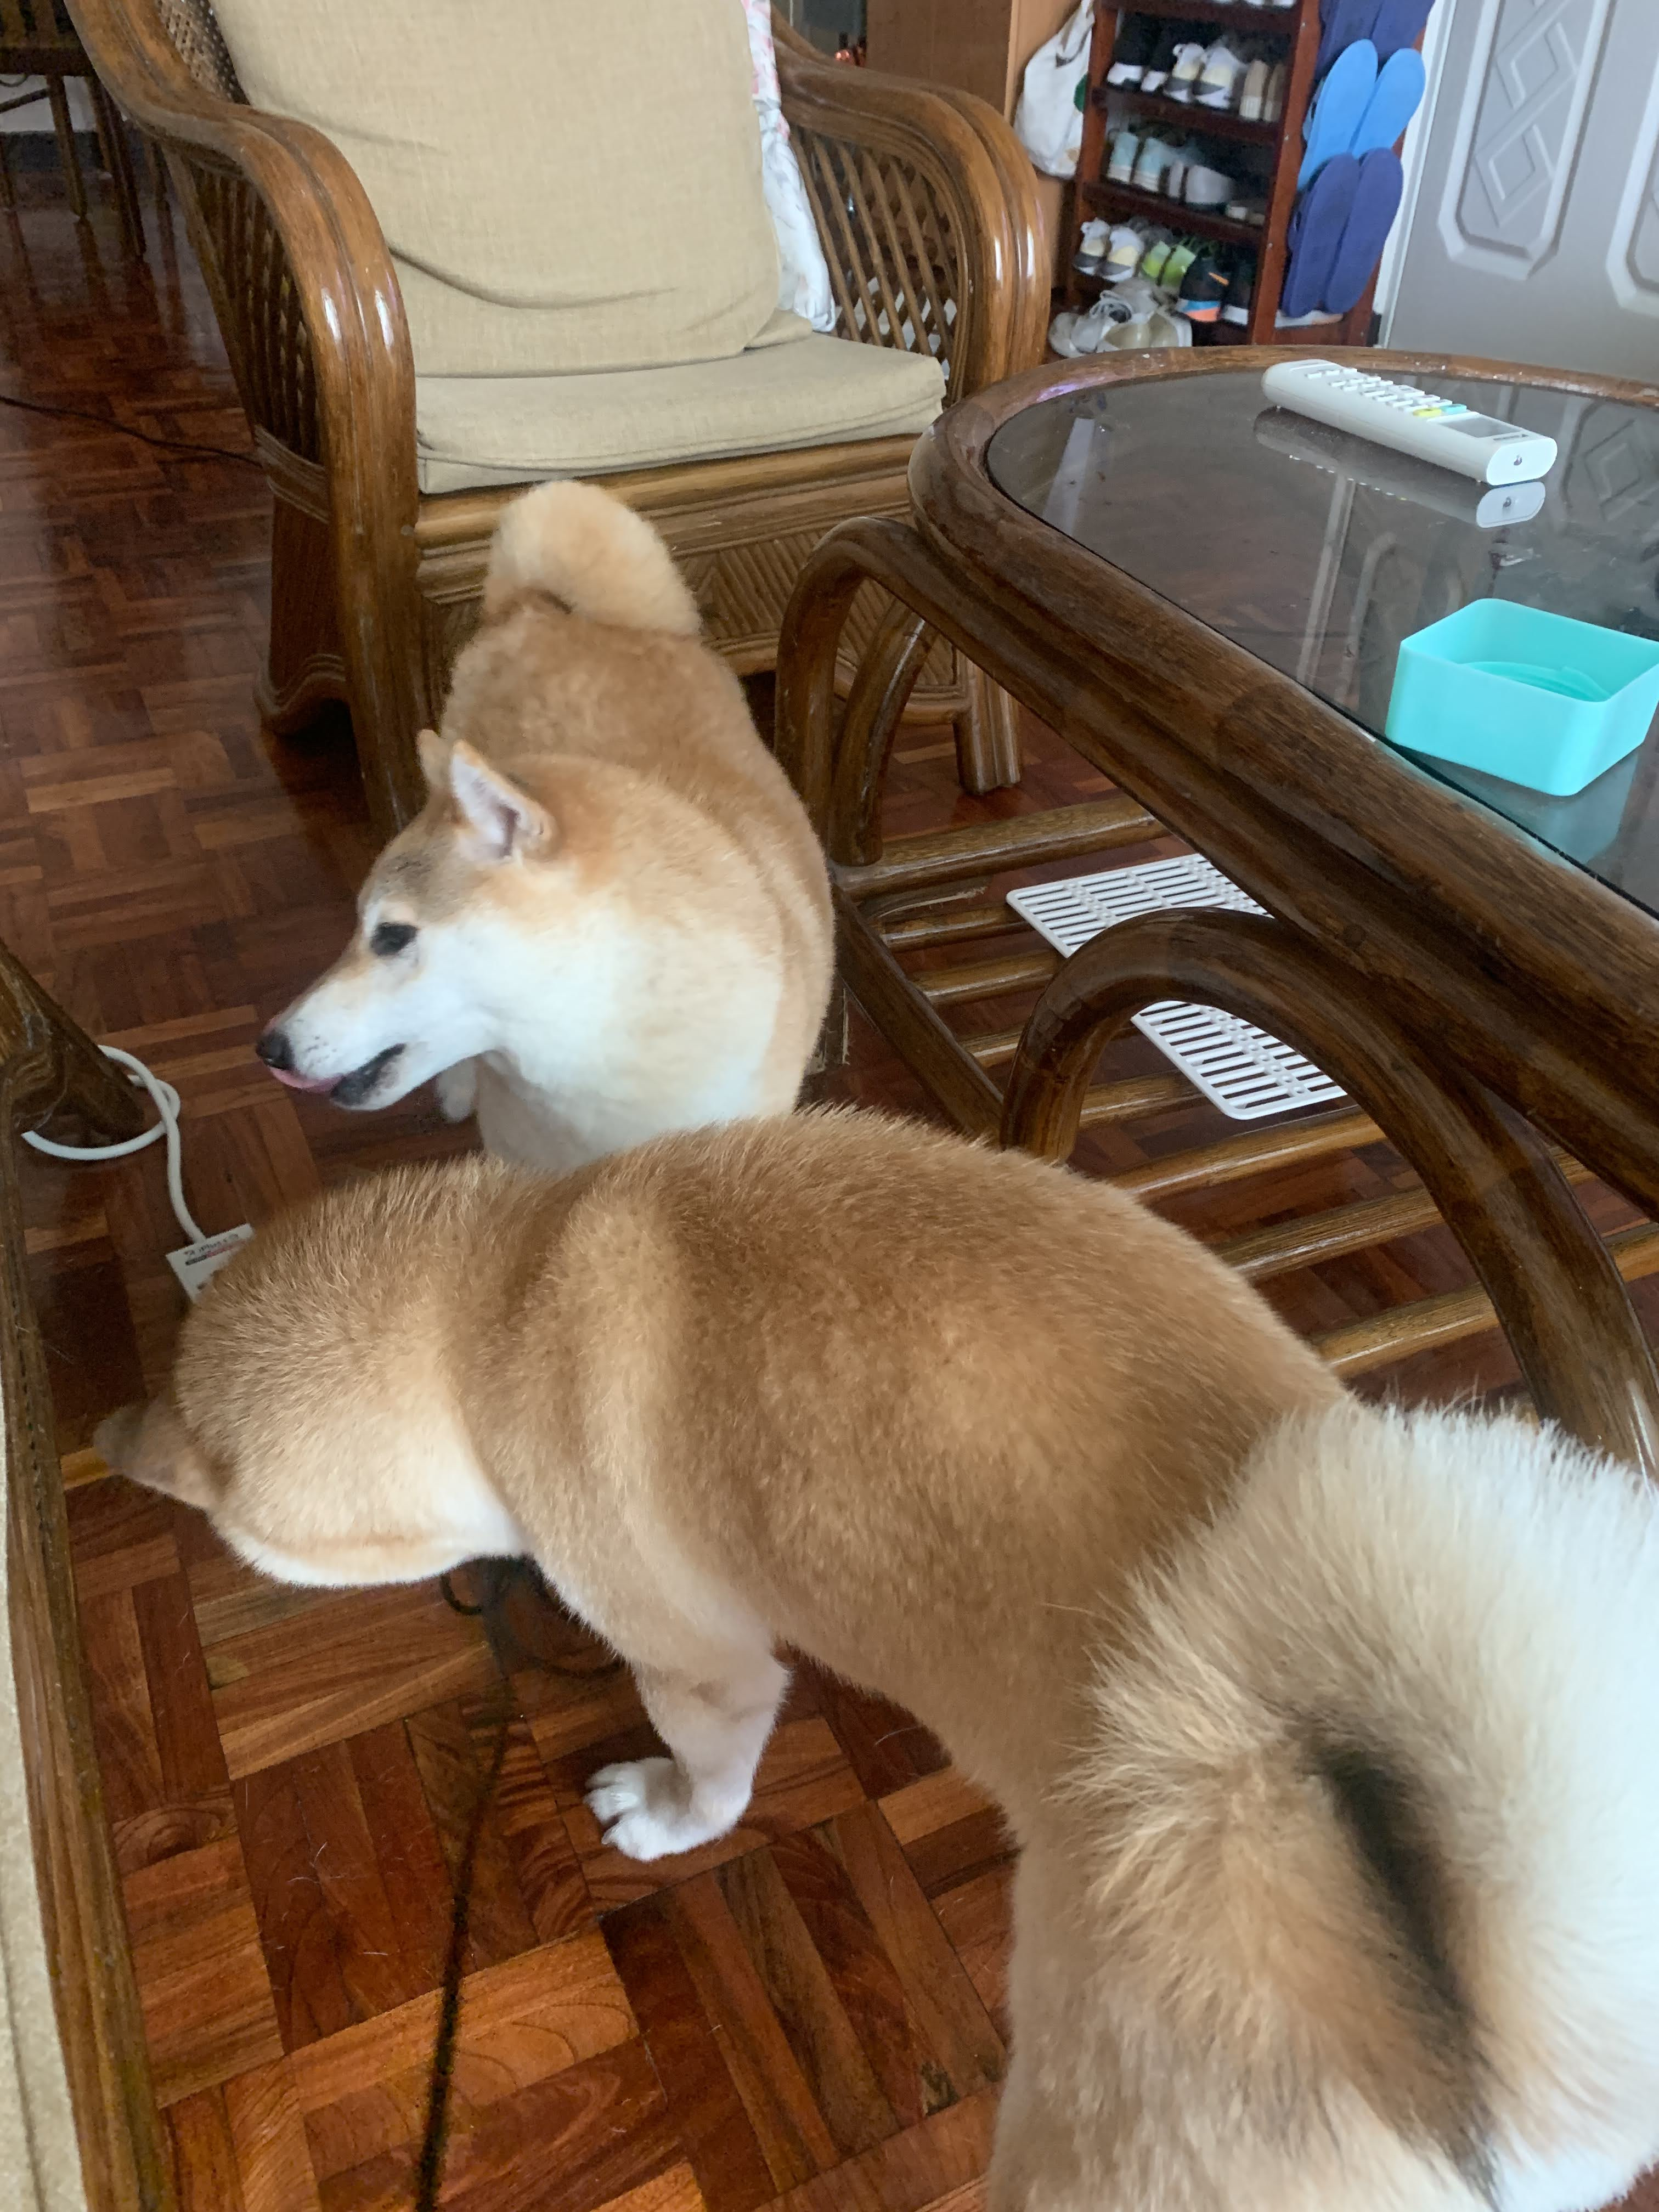Stand up: (70, 1158, 1659, 2212), (267, 495, 828, 1167)
